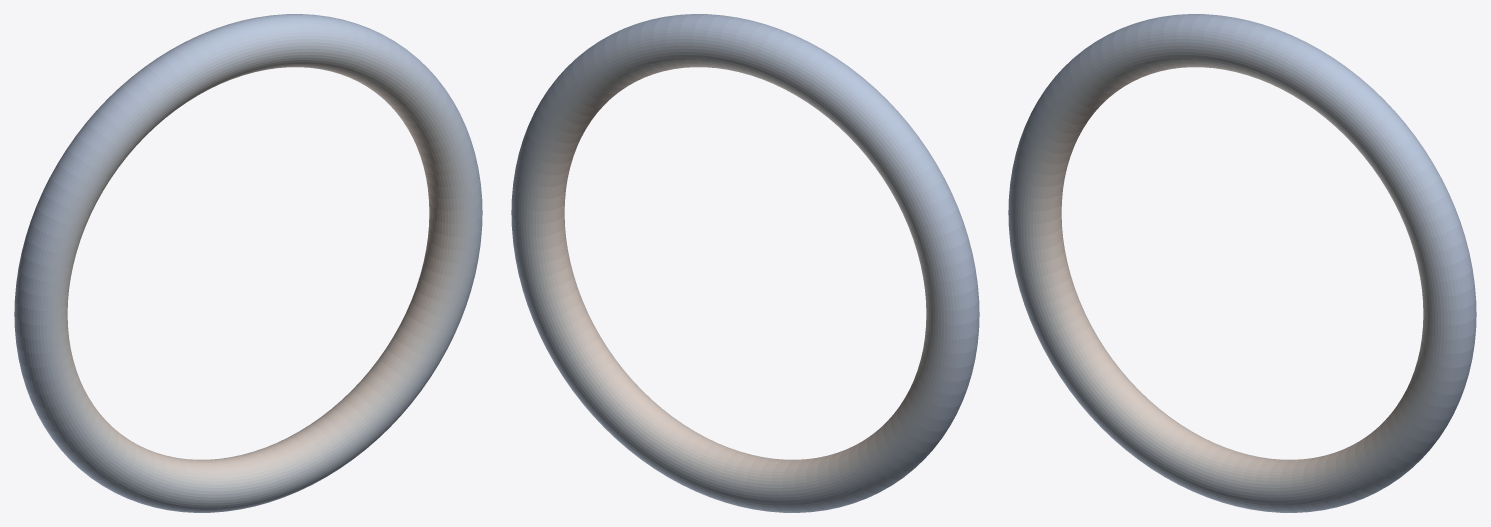
3 views of the same model, side by side, from view 1: azimuth 30°, elevation 25°; view 2: azimuth 150°, elevation 25°; view 3: azimuth 330°, elevation 25° (orthographic).
Visible parts, largest first — view 1: world; view 2: world; view 3: world.
Part boxes in pixels (x1,y1,x2,y2): world: (14,14,482,512); world: (511,14,979,512); world: (1008,14,1476,512).
Bounding box in the file's own units: 20 × 20 × 2.
